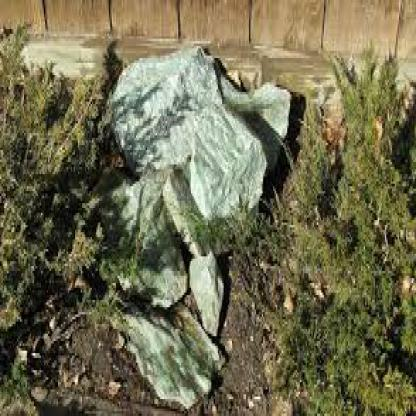Metamorphic_Quartize: (114, 63, 264, 189)
